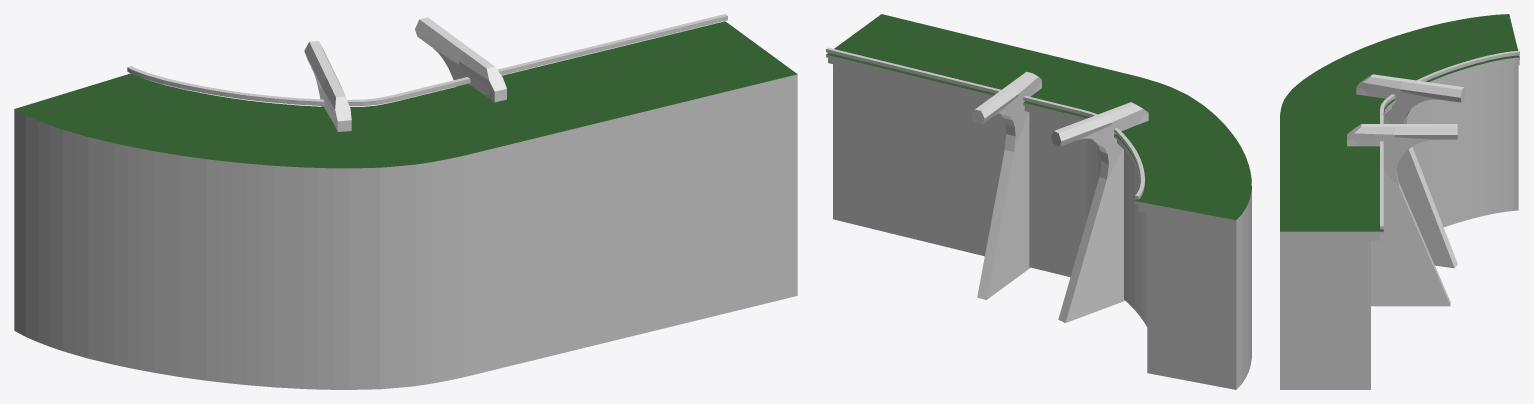
Rendered from Building07.fbx.
The picture shows the model from 3 angles, left to right: view 1: azimuth 30°, elevation 25°; view 2: azimuth 150°, elevation 25°; view 3: azimuth 270°, elevation 25°; orthographic projection. The views are drawn at different scales.
Parts seen in each view (by area): view 1: 07; view 2: 07; view 3: 07.
Boxes of the visible parts, x1,y1,x2,y2 form: 07: (14, 14, 797, 389); 07: (826, 14, 1251, 389); 07: (1280, 14, 1519, 389).
Size of the model in its own units: 2530 by 970 by 1179.
